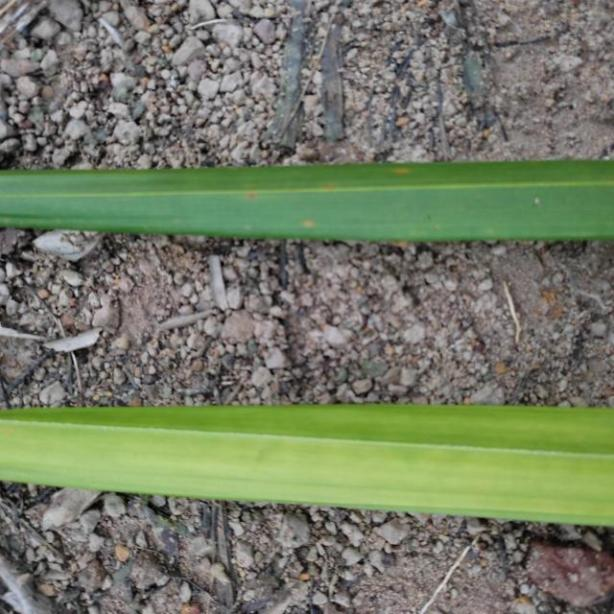nitrogen: (0, 395, 614, 528)
